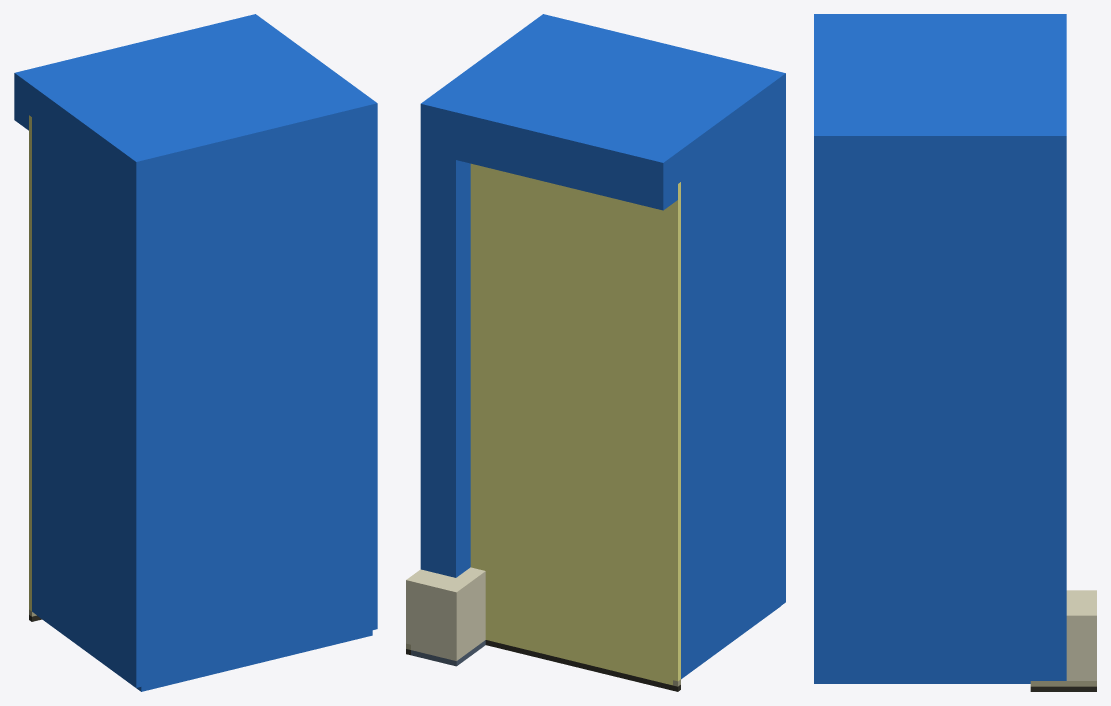
Rendered from lab-door-1.obj.
The picture shows the model from 3 angles, left to right: view 1: azimuth 30°, elevation 25°; view 2: azimuth 150°, elevation 25°; view 3: azimuth 270°, elevation 25°; orthographic projection. The views are drawn at different scales.
Size of the model in its own units: 4.8 by 10.2 by 4.7.
1 material, 1 textured.
